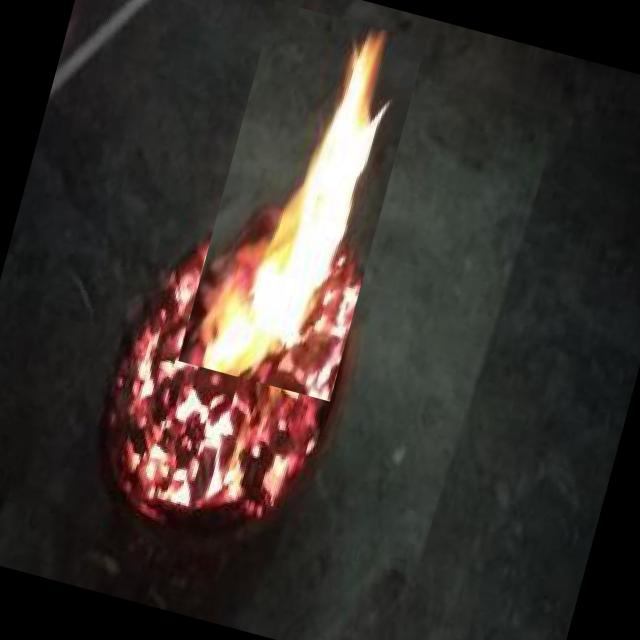fire: (178, 0, 426, 401)
